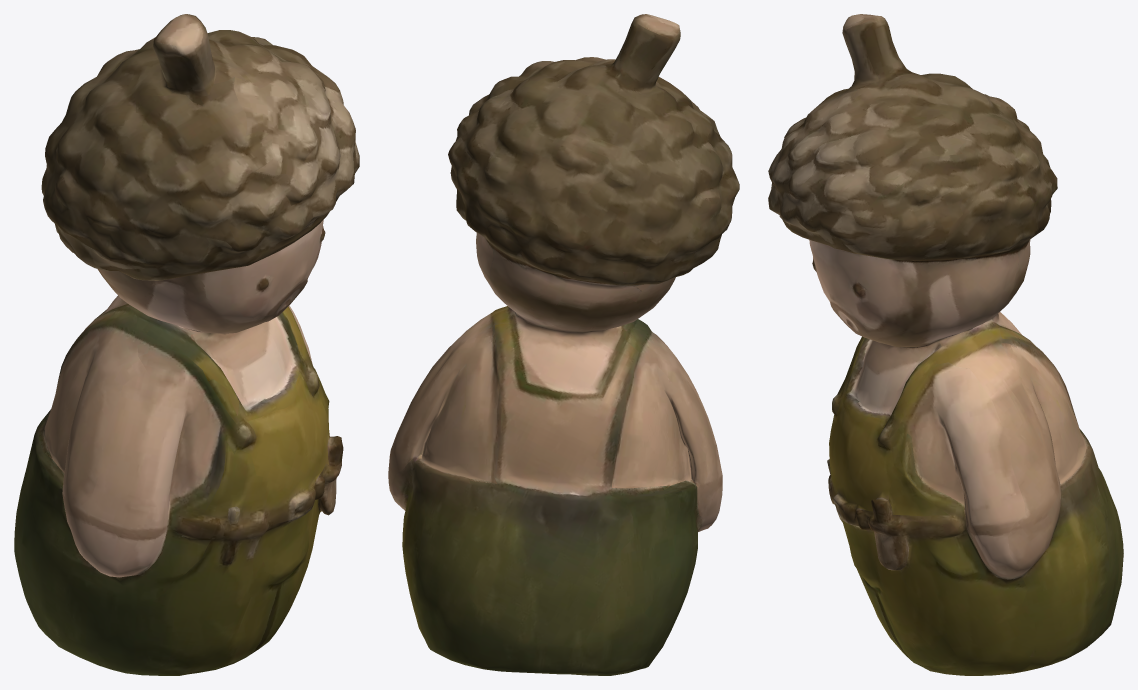
File: worker.glb
The picture shows the model from 3 angles, left to right: view 1: azimuth 30°, elevation 25°; view 2: azimuth 150°, elevation 25°; view 3: azimuth 270°, elevation 25°; orthographic projection. The views are drawn at different scales.
Parts seen in each view (by area): view 1: geometry_0; view 2: geometry_0; view 3: geometry_0.
Boxes of the visible parts, bbox=[...] form: geometry_0: bbox=[14, 14, 359, 675]; geometry_0: bbox=[388, 14, 739, 675]; geometry_0: bbox=[768, 14, 1123, 675].
Size of the model in its own units: 0.4086 by 0.8681 by 0.4596.
Materials: 1 (1 with a texture image).
